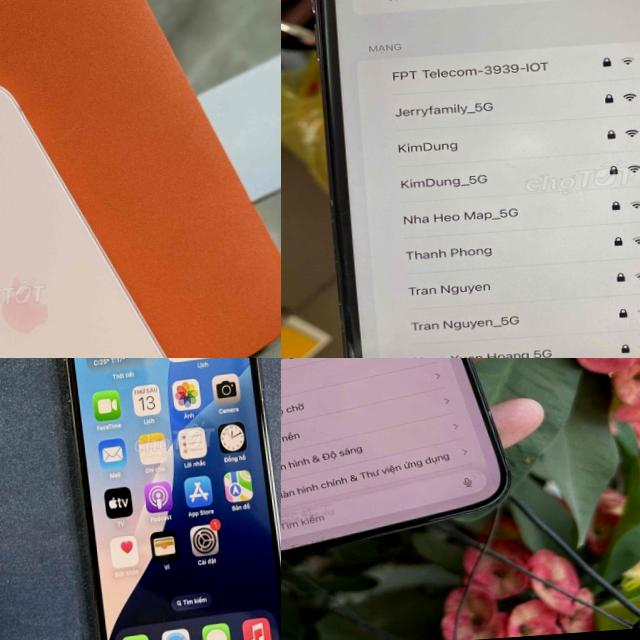gen_12_13: (51, 358, 281, 640)
gen_15: (0, 63, 220, 358), (281, 358, 525, 566)
gen_7_8: (308, 0, 640, 358)
scratch: (344, 332, 393, 358), (480, 405, 495, 418)
